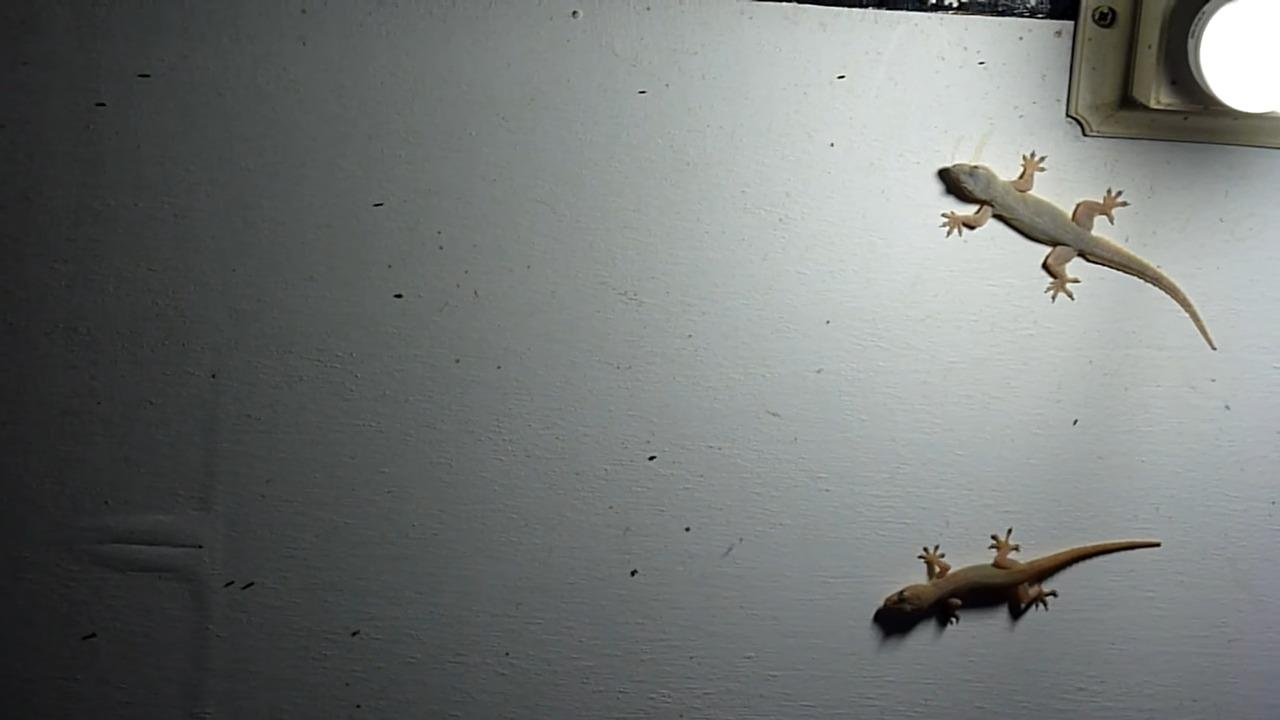lizard: (922, 142, 1233, 363), (864, 500, 1182, 656)
